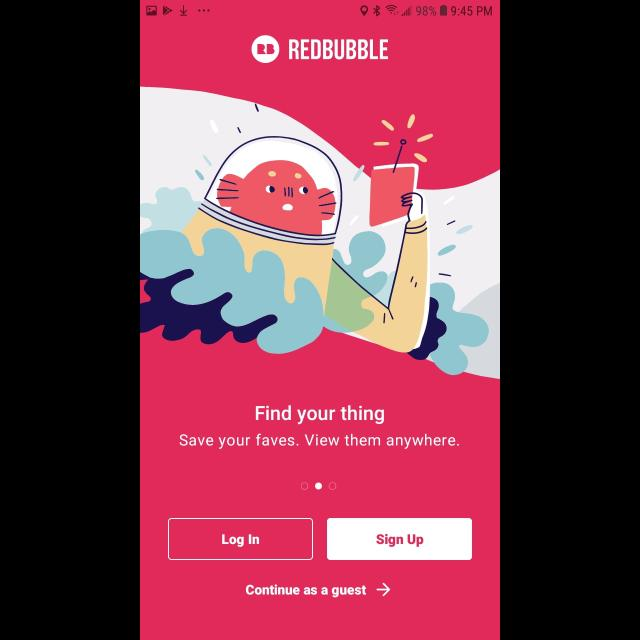icon: (376, 583, 390, 597)
image: (140, 86, 500, 380), (252, 36, 280, 64)
pageindicator: (301, 482, 337, 490)
text: (180, 434, 460, 450), (256, 404, 384, 424), (290, 40, 388, 60), (246, 584, 366, 598)
textbutton: (168, 518, 314, 560), (328, 518, 472, 560)
uppertaskbar: (140, 1, 500, 18)
